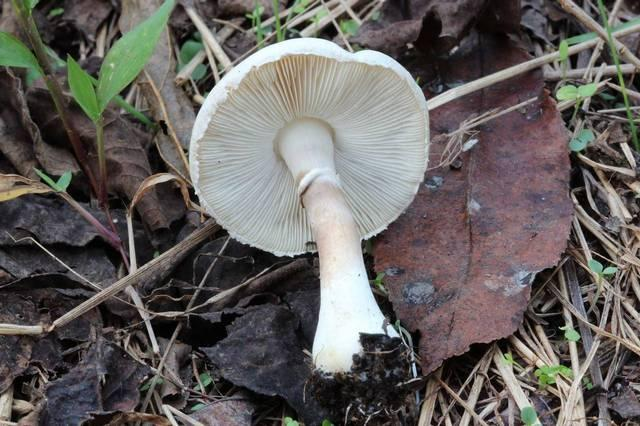Non-edible Mushroom: (187, 36, 431, 381)
